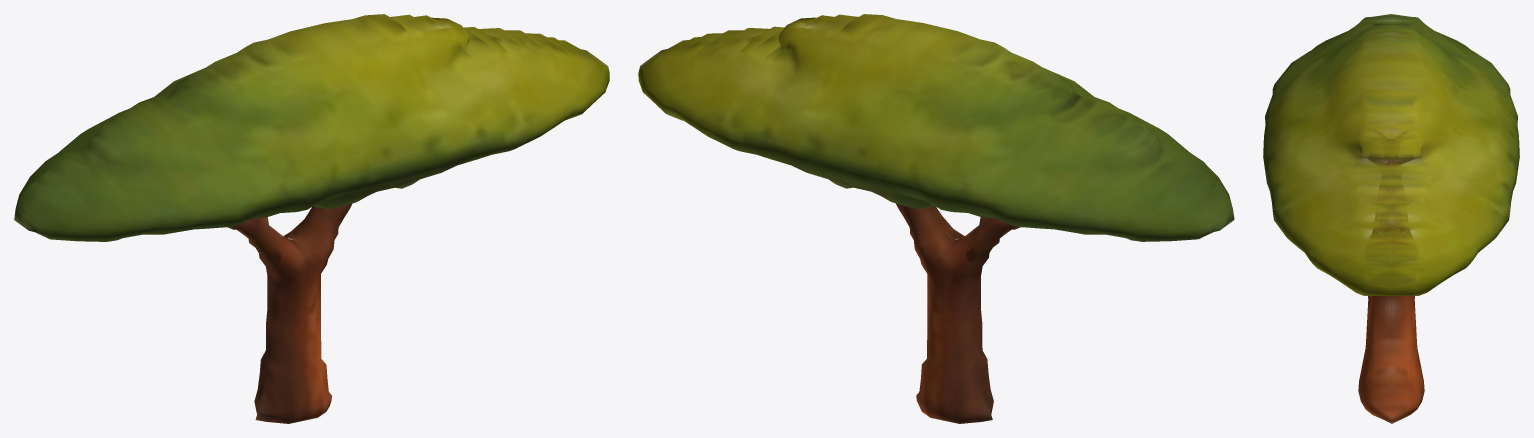
File: 02_acacia_trees_r02_c04.glb
3 views of the same model, side by side, from view 1: azimuth 30°, elevation 25°; view 2: azimuth 150°, elevation 25°; view 3: azimuth 270°, elevation 25° (orthographic). The views are drawn at different scales.
Parts seen in each view (by area): view 1: 02_acacia_trees_r02_c04; view 2: 02_acacia_trees_r02_c04; view 3: 02_acacia_trees_r02_c04.
Part boxes in pixels (x1,y1,x2,y2): 02_acacia_trees_r02_c04: (14, 14, 609, 423); 02_acacia_trees_r02_c04: (638, 14, 1234, 423); 02_acacia_trees_r02_c04: (1263, 14, 1519, 423).
Bounding box in the file's own units: 1.83 × 1.12 × 0.7322.
1 material, 1 textured.
